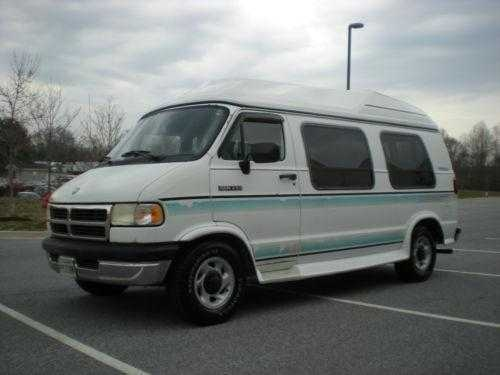van: (40, 77, 459, 326)
